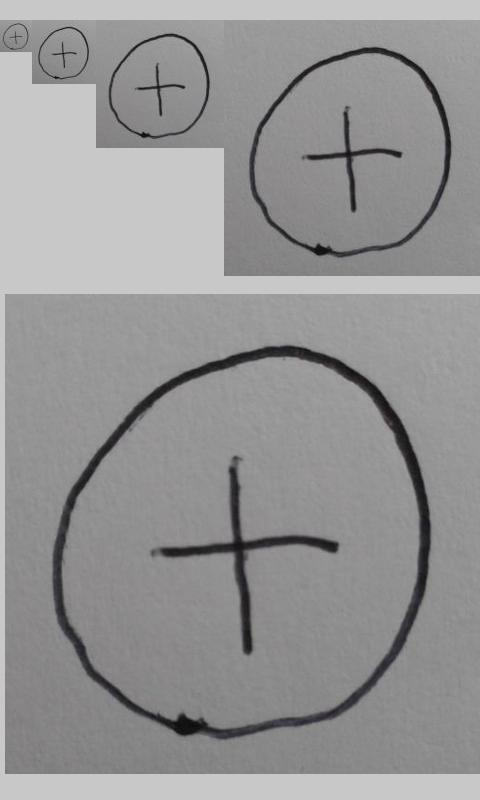button: (51, 344, 435, 742), (248, 46, 452, 258), (108, 33, 211, 139), (38, 26, 90, 80), (2, 23, 29, 50)
